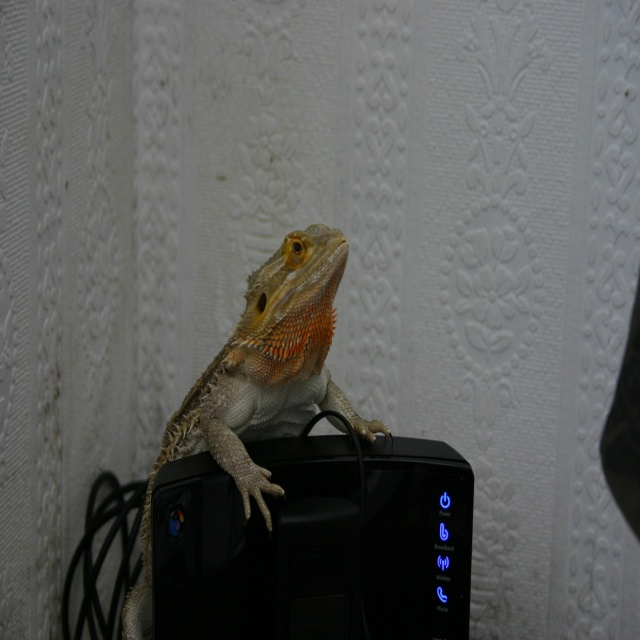Lizard: (158, 213, 398, 557)
